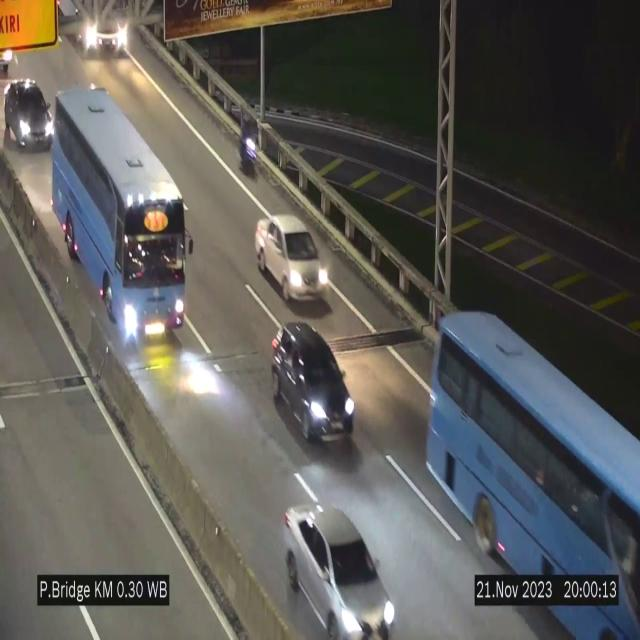Bus: (423, 307, 640, 640), (53, 82, 193, 345)
Car: (284, 504, 398, 638), (273, 320, 359, 448), (255, 214, 327, 303), (0, 80, 58, 151)
Motorcycle: (236, 111, 264, 181)
